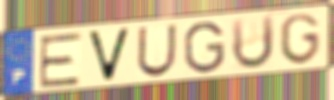E: (38, 31, 85, 90)
G: (182, 20, 227, 76), (278, 11, 322, 66)
U: (229, 13, 276, 72), (135, 23, 179, 79)
V: (85, 26, 134, 84)
